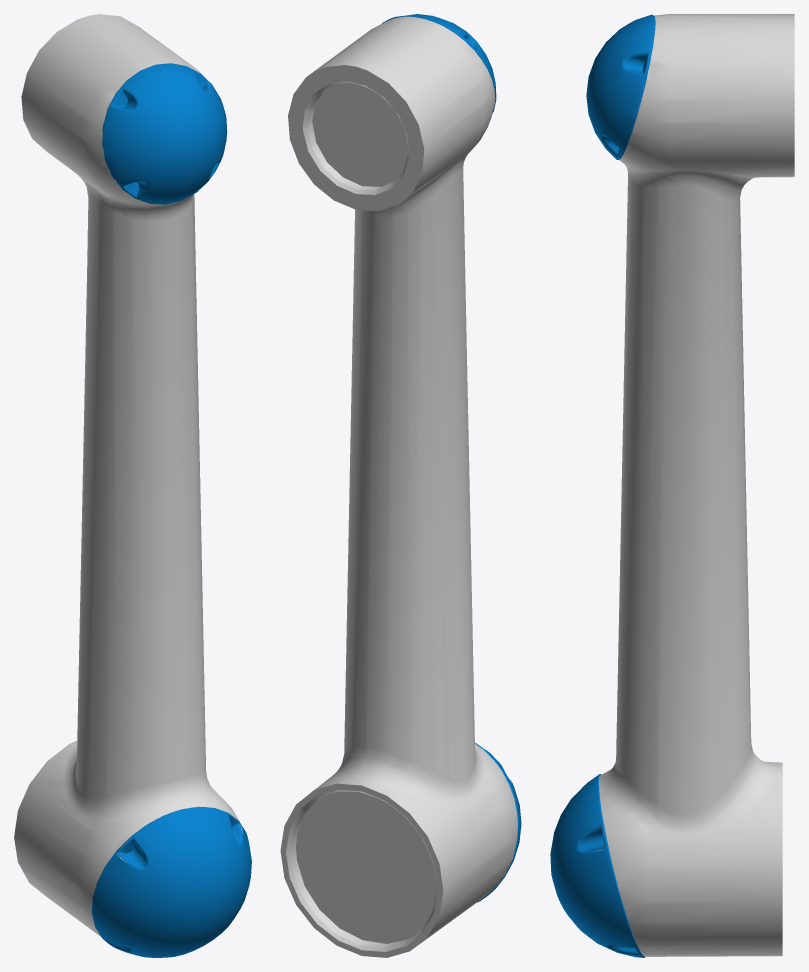
3 renders of one model, left to right at view 1: azimuth 30°, elevation 25°; view 2: azimuth 150°, elevation 25°; view 3: azimuth 270°, elevation 25°, orthographic. The views are drawn at different scales.
Parts seen in each view (by area): view 1: Link 2 L; view 2: Link 2 L; view 3: Link 2 L.
Part boxes in pixels (x1,y1,x2,y2): Link 2 L: (14,14,251,957); Link 2 L: (280,14,521,957); Link 2 L: (550,14,794,957).
Size of the model in its own units: 0.162 by 0.2029 by 0.85.
